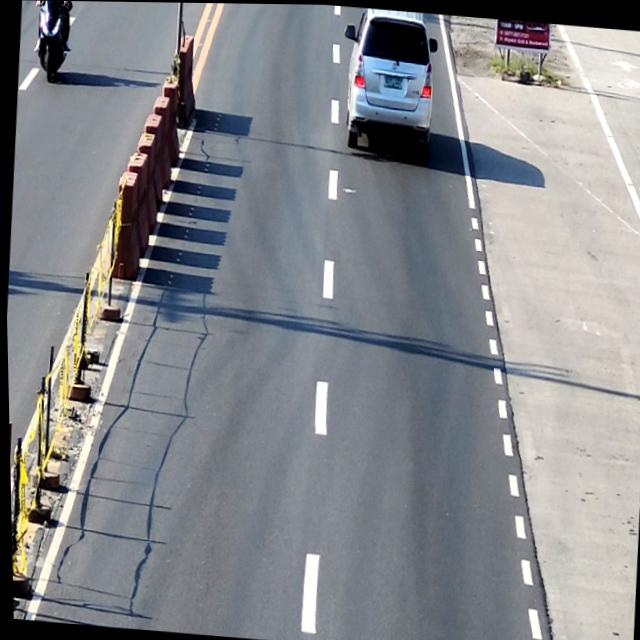Car: (335, 5, 443, 160)
License-Plate: (382, 73, 402, 89)
Motorcycle: (30, 0, 74, 83)
